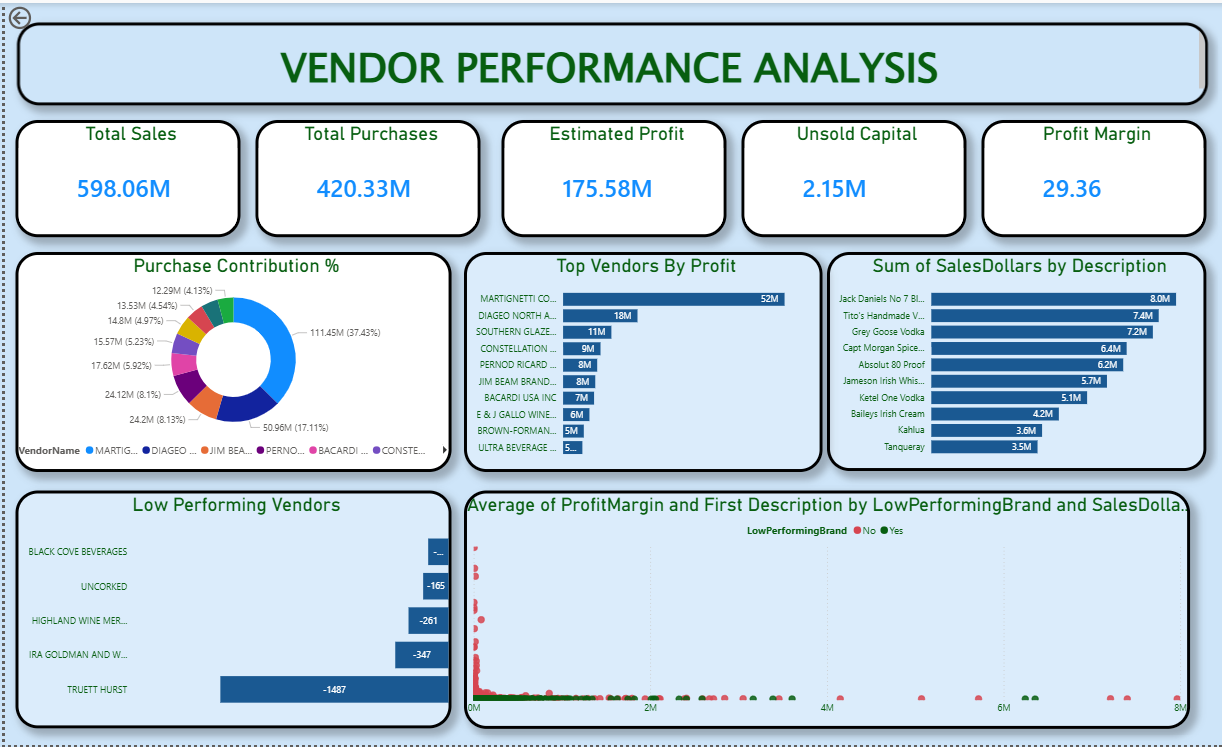

What the dashboard file says about the page in this screenshot:
{"tool":"powerbi","page":{"name":"Page 1","canvas":[1638,996],"ordinal":0},"visuals":[{"type":"cardVisual","title":"Total Sales","fields":{"Data":["Sum(final_vendor_analysis.SalesDollars)"]},"box":[14.5,157.2,302.3,157.2],"z":0},{"type":"cardVisual","title":"Total Purchases","fields":{"Data":["Sum(final_vendor_analysis.Dollars)"]},"box":[336.1,157.2,302.3,157.2],"z":1000},{"type":"cardVisual","title":"Estimated Profit","fields":{"Data":["Sum(final_vendor_analysis.EstimatedProfit)"]},"box":[667.5,157.2,302.3,157.2],"z":2000},{"type":"cardVisual","title":"Unsold Capital","fields":{"Data":["Sum(final_vendor_analysis.Freight)"]},"box":[989.1,157.2,302.3,157.2],"z":3000},{"type":"cardVisual","title":"Profit Margin","fields":{"Data":["final_vendor_analysis.Profit Margin %"]},"box":[1310.7,157.2,302.3,157.2],"z":4000},{"type":"textbox","box":[16.9,26.6,1598.5,111.2],"z":5000},{"type":"clusteredBarChart","title":"Top Vendors By Profit","fields":{"Category":["final_vendor_analysis.VendorName"],"Y":["Sum(final_vendor_analysis.EstimatedProfit)"]},"box":[616.7,333.7,481.2,295],"z":6000},{"type":"donutChart","title":"Purchase Contribution %","fields":{"Category":["final_vendor_analysis.VendorName"],"Y":["Sum(final_vendor_analysis.Dollars)"]},"box":[14.5,333.7,585.2,295],"z":7000},{"type":"clusteredBarChart","title":"Low Performing Vendors","fields":{"Category":["final_vendor_analysis.VendorName"],"Y":["final_vendor_analysis.Profit Margin"]},"box":[14.5,655.4,585.2,319.2],"z":8000},{"type":"scatterChart","fields":{"X":["brand_summary (2).SalesDollars"],"Series":["brand_summary (2).LowPerformingBrand"],"Y":["Avg(brand_summary (2).ProfitMargin)"]},"box":[616.1,654.4,974.5,320.1],"z":9000},{"type":"clusteredBarChart","fields":{"Category":["brand_summary (2).Description"],"Y":["Sum(brand_summary (2).SalesDollars)"]},"box":[1103.4,334.2,509.4,294],"z":10000},{"type":"actionButton","box":[0,0,100,40],"z":11000}]}

Visuals, with their boxes in screenshot pixels (x1, y1, x2, y2):
"Total Sales" cardVisual: (left=17, top=119, right=239, bottom=234)
"Total Purchases" cardVisual: (left=254, top=119, right=476, bottom=234)
"Estimated Profit" cardVisual: (left=497, top=119, right=720, bottom=234)
"Unsold Capital" cardVisual: (left=734, top=119, right=956, bottom=234)
"Profit Margin" cardVisual: (left=971, top=119, right=1193, bottom=234)
textbox: (left=19, top=23, right=1195, bottom=105)
"Top Vendors By Profit" clusteredBarChart: (left=460, top=249, right=814, bottom=466)
"Purchase Contribution %" donutChart: (left=17, top=249, right=448, bottom=466)
"Low Performing Vendors" clusteredBarChart: (left=17, top=485, right=448, bottom=720)
scatterChart - brand_summary (2).SalesDollars x brand_summary (2).LowPerformingBrand: (left=460, top=485, right=1177, bottom=720)
clusteredBarChart - brand_summary (2).Description x Sum(brand_summary (2).SalesDollars): (left=818, top=249, right=1193, bottom=465)
actionButton: (left=6, top=3, right=80, bottom=33)
